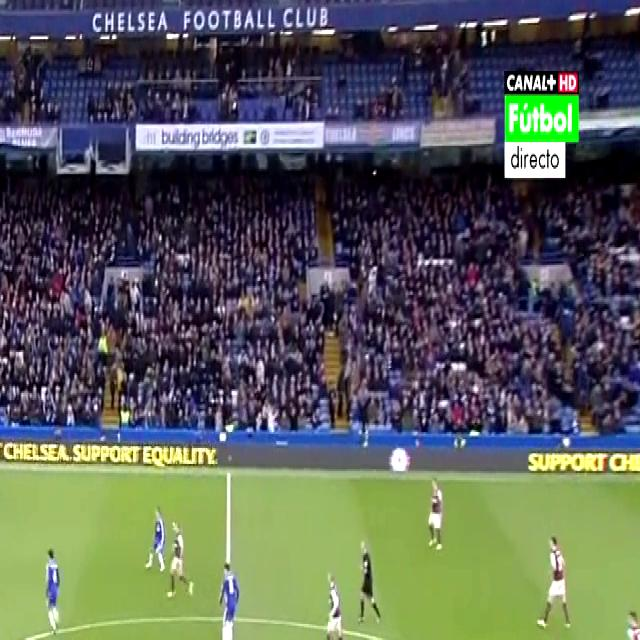referee: (355, 531, 390, 634)
soccer-player: (532, 528, 572, 636), (162, 507, 190, 608), (38, 542, 65, 640), (320, 562, 353, 640), (424, 472, 451, 558), (217, 558, 243, 640), (146, 500, 172, 581), (616, 604, 638, 640), (544, 629, 577, 640)
